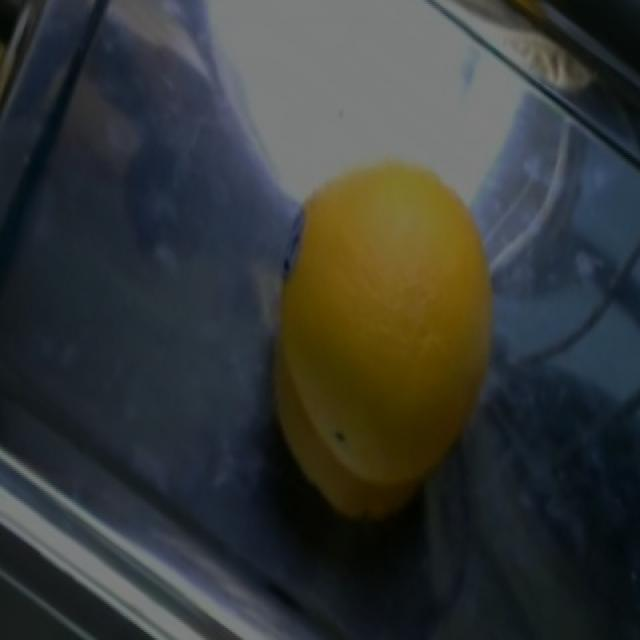Fruit: (251, 131, 517, 457)
